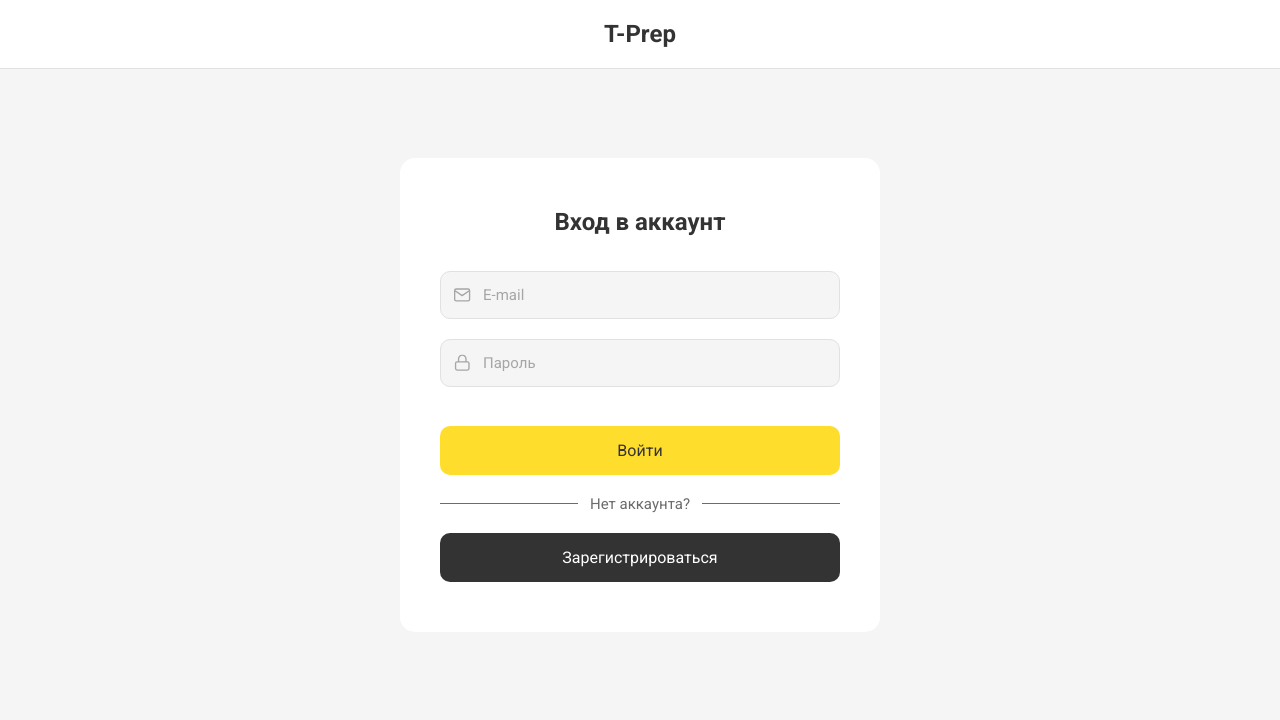
Test: Login › should show server error when server returns 500
Type "test@example.com" into the field with placeholder "E-mail" at (640, 294), box [440, 270, 840, 318]
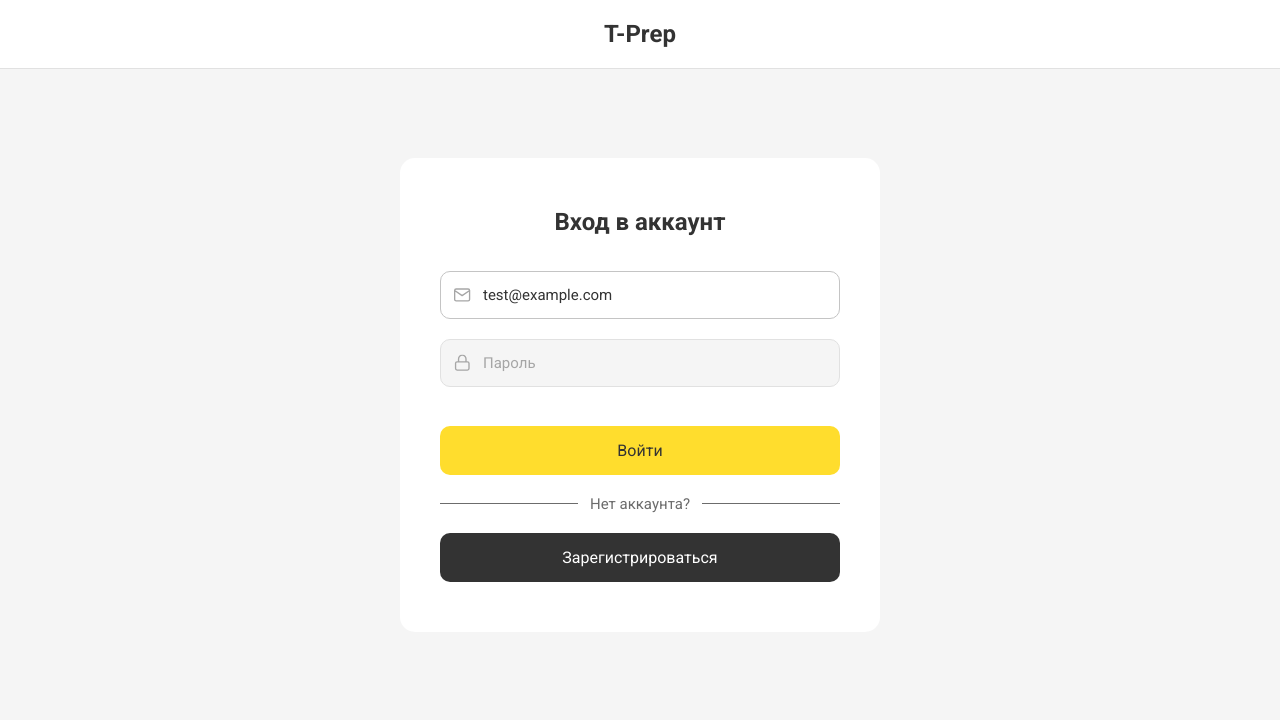
Type "password123" into the password field with placeholder "Пароль" at (640, 362), box [440, 338, 840, 386]
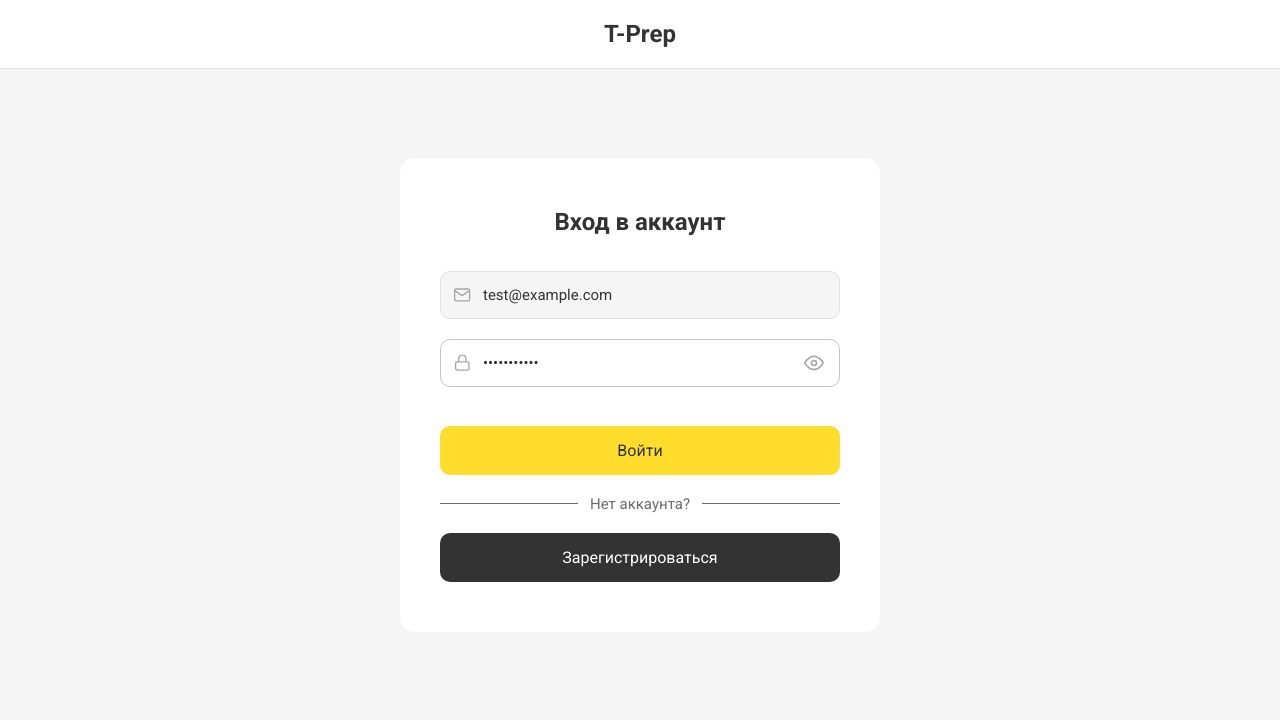
Click the button "Войти" at (640, 450), box [440, 426, 840, 474]
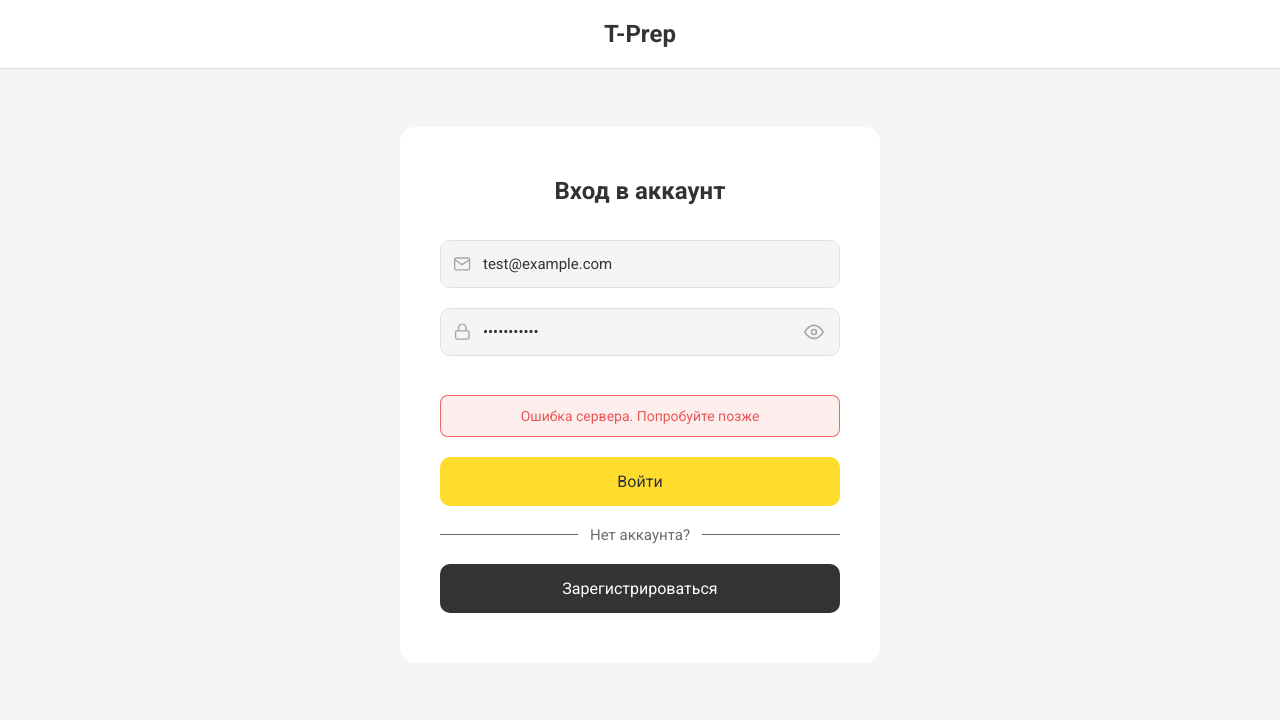
Check: the text "Ошибка сервера. Попробуйте позже" is shown, box [440, 394, 840, 436]
